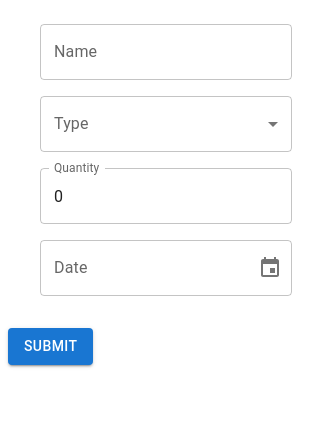
Test: Registration › displays an error message when trying to submit an empty form
Click the button "Submit" at {"x": 51, "y": 346}, box [8,328,93,364]
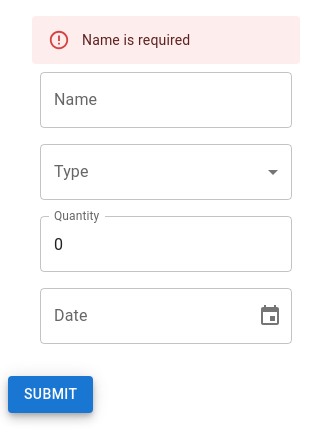
Expected: the text "Name is required" is shown, [82,32,190,48]
Type "John Doe" into the field labelled "Name" at {"x": 166, "y": 100}, box [40,72,292,128]
Click the button "Submit" at {"x": 51, "y": 394}, box [8,376,93,412]
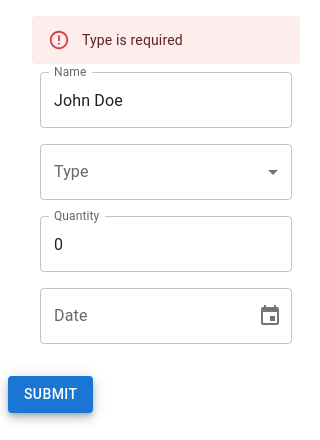
Expected: the text "Type is required" is shown, [82,32,183,48]
Click the dropdown named "Type" at {"x": 166, "y": 172}, box [40,144,292,200]
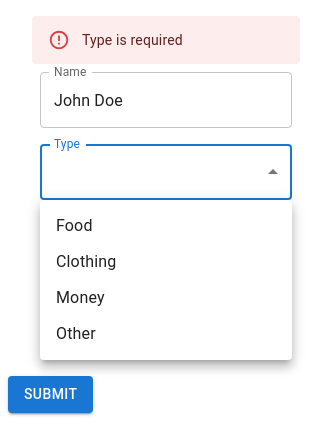
Click the option "Food" at {"x": 74, "y": 226}, box [56,216,93,235]
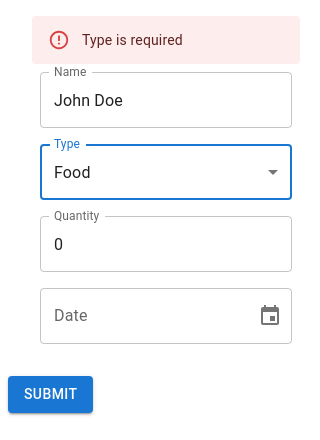
Click the button "Submit" at {"x": 51, "y": 394}, box [8,376,93,412]
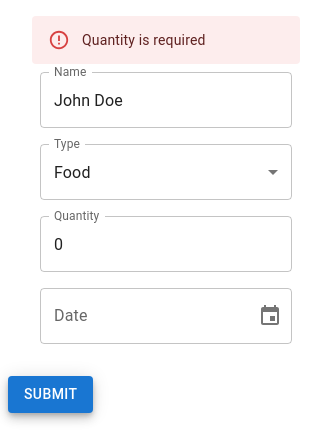
Expected: the text "Quantity is required" is shown, [82,32,206,48]
Type "5" into the number field labelled "Quantity" at {"x": 166, "y": 244}, box [40,216,292,272]
Click the button "Submit" at {"x": 51, "y": 394}, box [8,376,93,412]
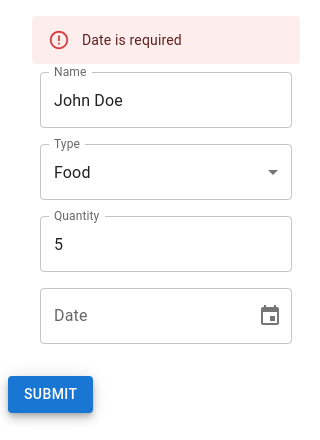
Expected: the text "Date is required" is shown, [82,32,182,48]
